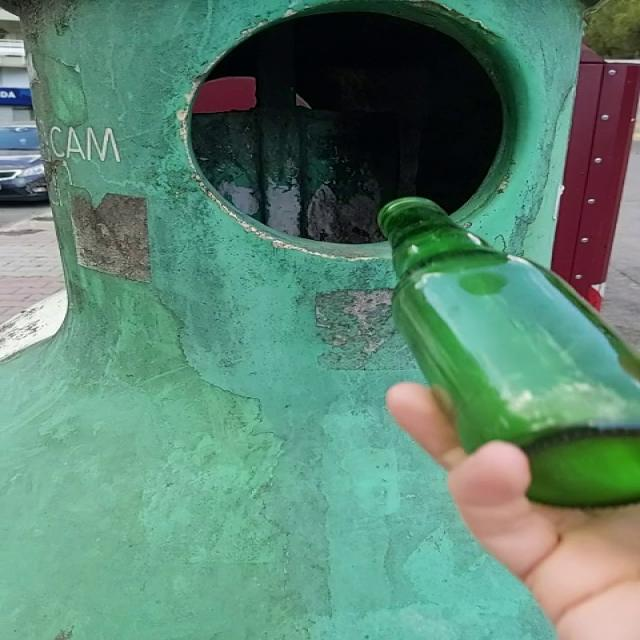glass: (379, 198, 640, 508)
